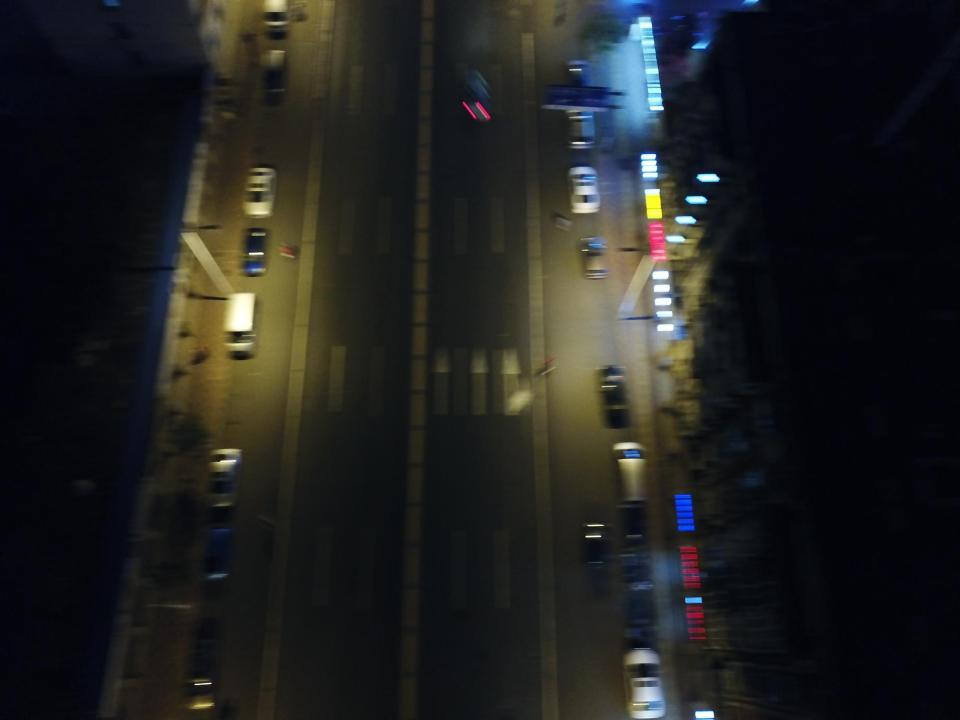car: (622, 648, 668, 719), (614, 505, 652, 581), (204, 447, 244, 513), (199, 530, 238, 595), (622, 582, 660, 640), (599, 364, 630, 430), (566, 164, 603, 213), (242, 167, 278, 217), (582, 522, 607, 592), (562, 99, 600, 145), (460, 69, 490, 125), (242, 226, 272, 279), (566, 58, 598, 105), (579, 237, 609, 279)
van: (186, 640, 234, 718), (612, 440, 652, 510), (222, 292, 262, 357), (254, 52, 289, 102), (256, 2, 294, 37)
